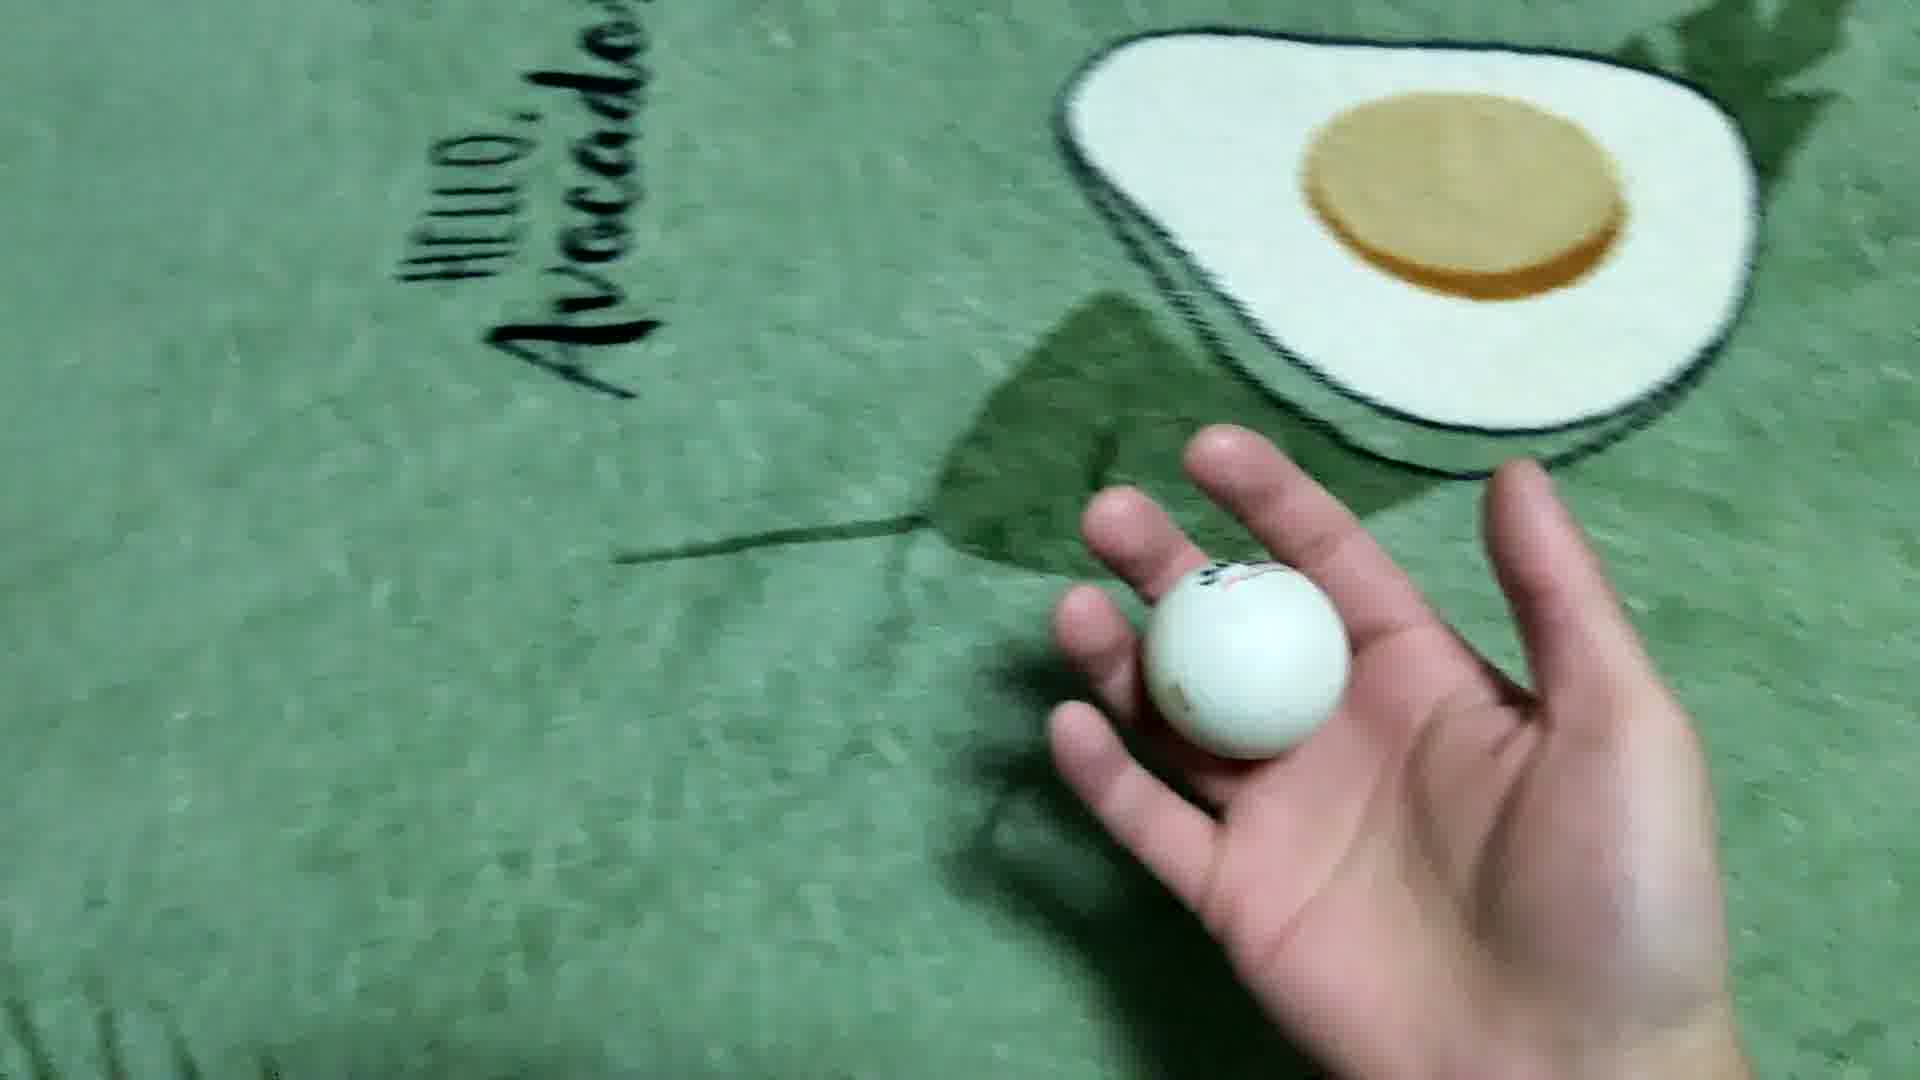Ball: (1141, 558, 1349, 761)
